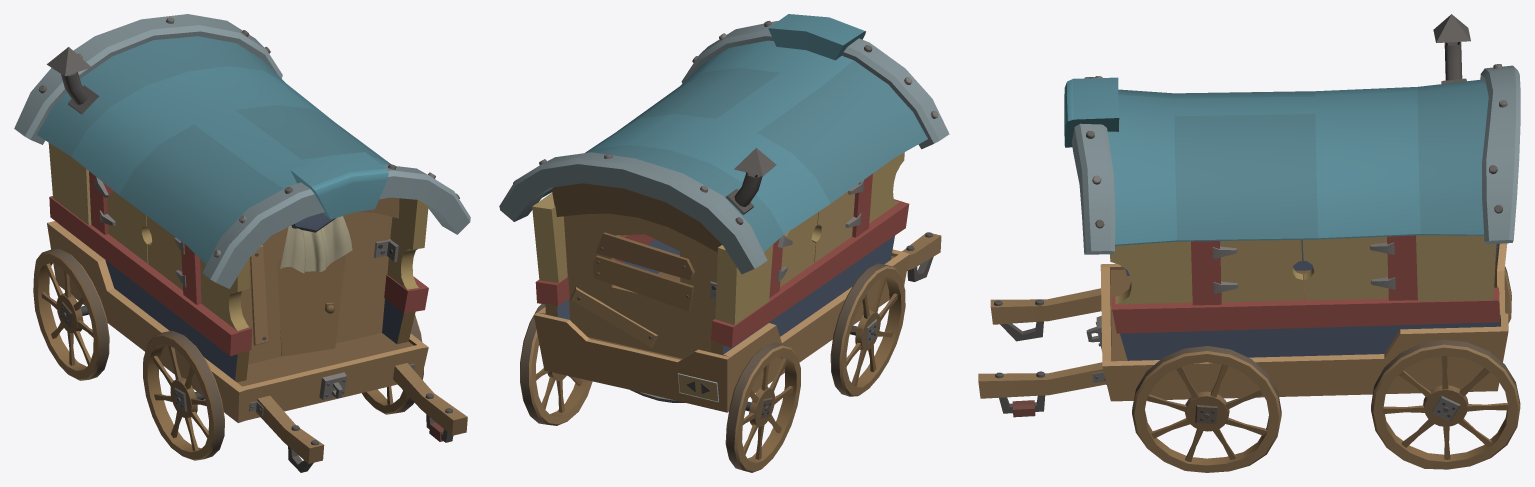
Rendered from Caravan.fbx.
3 renders of one model, left to right at view 1: azimuth 30°, elevation 25°; view 2: azimuth 150°, elevation 25°; view 3: azimuth 270°, elevation 25°, orthographic. The views are drawn at different scales.
Parts seen in each view (by area): view 1: polySurface29_blue_wood4_0, polySurface29_blue_wood_0, polySurface56_base_wood_0, polySurface61_blue_wood5_0, polySurface60_blue_wood3_0, pCube30_door_base_wood4_0, polySurface16_red_wood_0, polySurface21_light_wood_0, polySurface20_light_wood_0, polySurface58_blue_wood_0, polySurface10_blue_wood2_0, polySurface27_base_wood3_0 (+28 smaller); view 2: polySurface29_blue_wood4_0, polySurface29_blue_wood_0, polySurface57_base_wood_0, polySurface61_blue_wood5_0, polySurface15_light_wood_0, polySurface9_yellow_wood_0, polySurface16_red_wood_0, polySurface32_base_wood1_0, polySurface21_light_wood_0, group9_polySurface92_base_wood_0, polySurface60_blue_wood3_0, polySurface10_blue_wood2_0 (+25 smaller); view 3: polySurface29_blue_wood4_0, polySurface29_blue_wood_0, polySurface21_light_wood_0, polySurface16_red_wood_0, polySurface10_blue_wood2_0, polySurface61_blue_wood5_0, polySurface9_yellow_wood_0, polySurface19_yellow_wood_0, group9_polySurface92_base_wood_0, polySurface18_yellow_wood2_0, group4_base_wood_0, polySurface5_yellow_wood_0 (+20 smaller).
Part boxes in pixels (x1=…): polySurface29_blue_wood4_0: x1=37, y1=36, x2=390, y2=264; polySurface29_blue_wood_0: x1=71, y1=66, x2=388, y2=194; polySurface56_base_wood_0: x1=240, y1=212, x2=392, y2=364; polySurface61_blue_wood5_0: x1=14, y1=14, x2=282, y2=144; polySurface60_blue_wood3_0: x1=202, y1=164, x2=469, y2=288; pCube30_door_base_wood4_0: x1=277, y1=254, x2=345, y2=356; polySurface16_red_wood_0: x1=49, y1=197, x2=428, y2=356; polySurface21_light_wood_0: x1=50, y1=226, x2=428, y2=422; polySurface20_light_wood_0: x1=245, y1=348, x2=421, y2=420; polySurface58_blue_wood_0: x1=290, y1=152, x2=387, y2=219; polySurface10_blue_wood2_0: x1=63, y1=227, x2=403, y2=380; polySurface27_base_wood3_0: x1=237, y1=333, x2=413, y2=386; polySurface29_blue_wood4_0: x1=542, y1=60, x2=927, y2=251; polySurface29_blue_wood_0: x1=585, y1=40, x2=853, y2=234; polySurface57_base_wood_0: x1=563, y1=213, x2=717, y2=358; polySurface61_blue_wood5_0: x1=499, y1=152, x2=767, y2=274; polySurface15_light_wood_0: x1=534, y1=315, x2=730, y2=412; polySurface9_yellow_wood_0: x1=532, y1=192, x2=773, y2=325; polySurface16_red_wood_0: x1=535, y1=204, x2=909, y2=347; polySurface32_base_wood1_0: x1=551, y1=183, x2=722, y2=252; polySurface21_light_wood_0: x1=539, y1=254, x2=909, y2=402; group9_polySurface92_base_wood_0: x1=520, y1=307, x2=800, y2=472; polySurface60_blue_wood3_0: x1=688, y1=21, x2=949, y2=149; polySurface10_blue_wood2_0: x1=549, y1=236, x2=894, y2=354; polySurface29_blue_wood4_0: x1=1118, y1=79, x2=1488, y2=240; polySurface29_blue_wood_0: x1=1107, y1=87, x2=1484, y2=245; polySurface21_light_wood_0: x1=1102, y1=331, x2=1500, y2=401; polySurface16_red_wood_0: x1=1112, y1=292, x2=1499, y2=333; polySurface10_blue_wood2_0: x1=1120, y1=239, x2=1500, y2=360; polySurface61_blue_wood5_0: x1=1480, y1=64, x2=1520, y2=244; polySurface9_yellow_wood_0: x1=1416, y1=235, x2=1496, y2=301; polySurface19_yellow_wood_0: x1=1302, y1=236, x2=1388, y2=300; group9_polySurface92_base_wood_0: x1=1371, y1=268, x2=1520, y2=469; polySurface18_yellow_wood2_0: x1=1220, y1=240, x2=1303, y2=302; group4_base_wood_0: x1=1132, y1=351, x2=1281, y2=472; polySurface5_yellow_wood_0: x1=1110, y1=241, x2=1192, y2=304.
Bounding box in the file's own units: 533 × 631 × 880.
